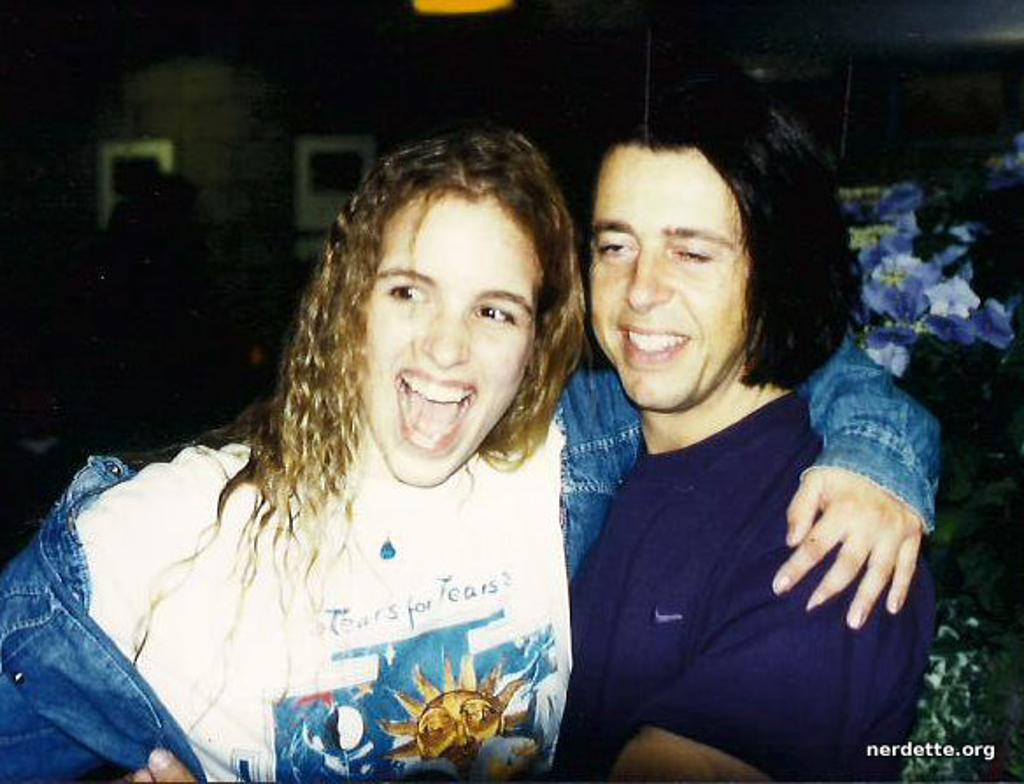face: (359, 212, 531, 484), (588, 144, 748, 410)
